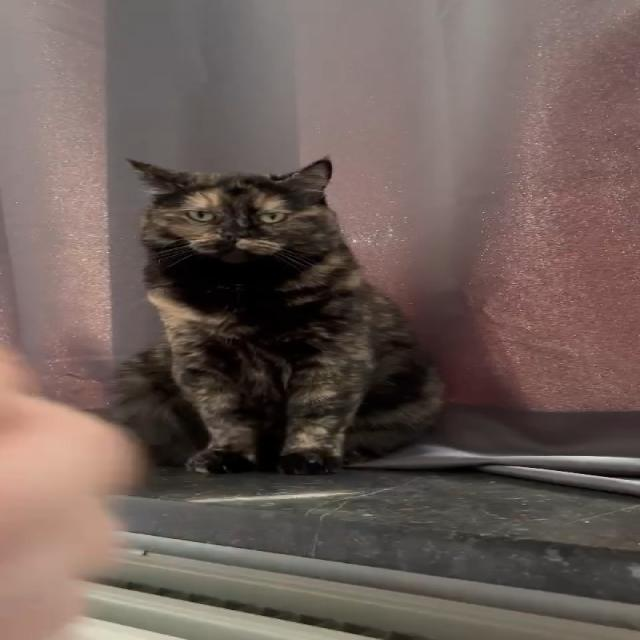authorized: (109, 154, 447, 475)
